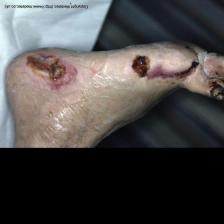Wound: (22, 53, 86, 91), (126, 49, 152, 81), (205, 72, 224, 101)
